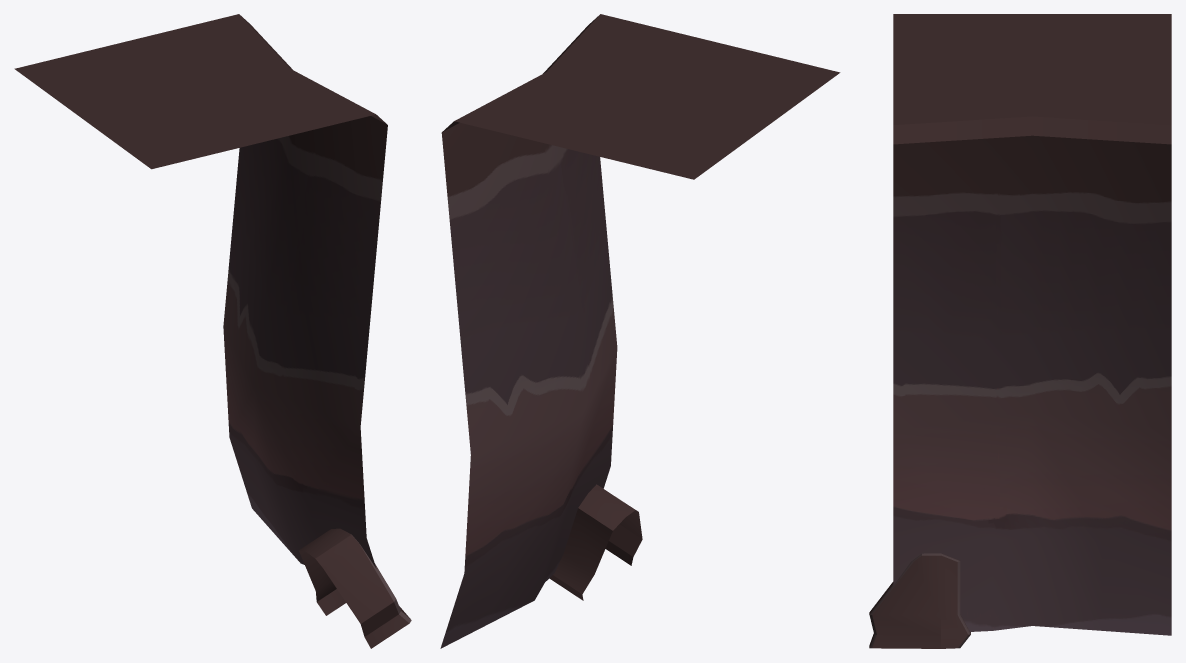
The model's file is M_Wall_04.fbx.
3 views of the same model, side by side, from view 1: azimuth 30°, elevation 25°; view 2: azimuth 150°, elevation 25°; view 3: azimuth 270°, elevation 25° (orthographic). The views are drawn at different scales.
Parts seen in each view (by area): view 1: M_Walls.008; view 2: M_Walls.008; view 3: M_Walls.008.
Boxes of the visible parts, <box> form: M_Walls.008: <box>14,14,411,648</box>; M_Walls.008: <box>440,14,840,648</box>; M_Walls.008: <box>869,14,1171,648</box>.
Bounding box in the file's own units: 217 × 419 × 217.
